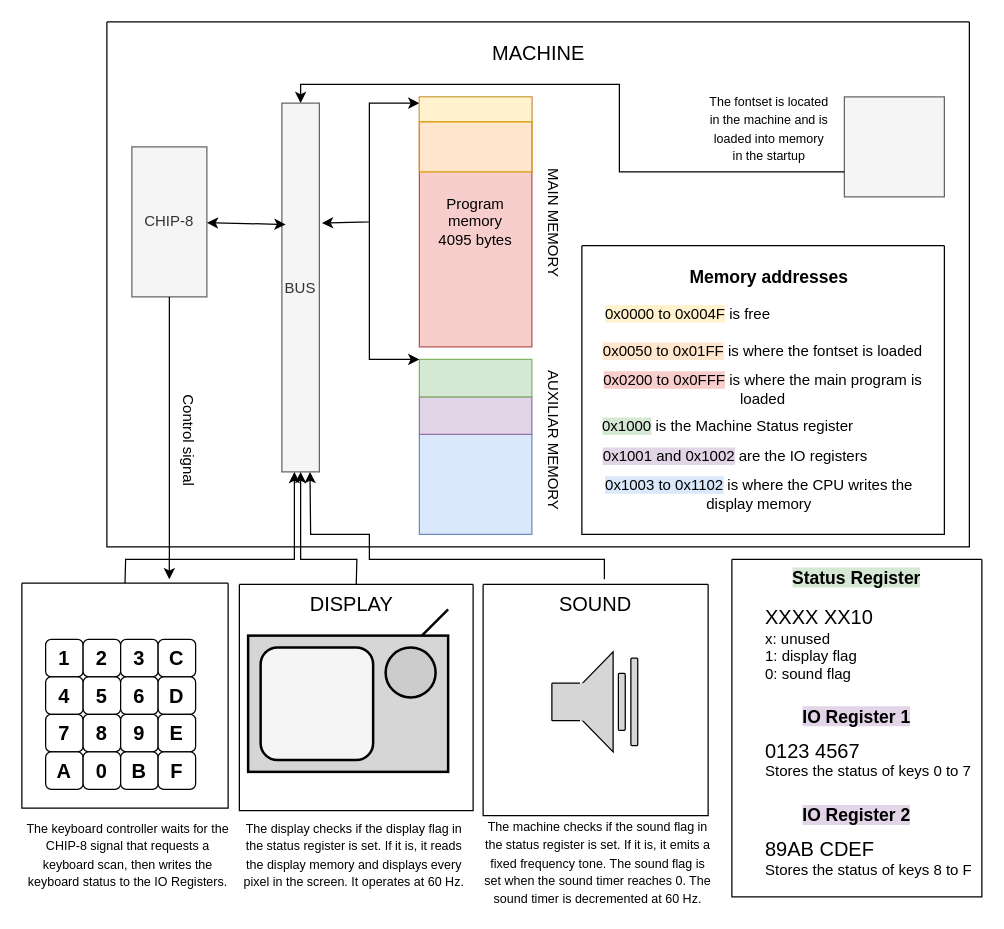
Image size: 1004x929. Some labels were removed from this diagram. Here are the shapes that lost their labels. From the top down, the box of each, then its label:
(418, 96, 532, 122): Free 80 bytes
(418, 121, 532, 172): Font memory 336 bytes
(843, 96, 944, 197): Fontset 80 bytes
(418, 358, 532, 397): Status register 1 byte
(418, 396, 532, 434): IO Registers 2 bytes
(418, 433, 532, 534): Display Memory 256 bytes
(21, 582, 228, 808): KEYBOARD
